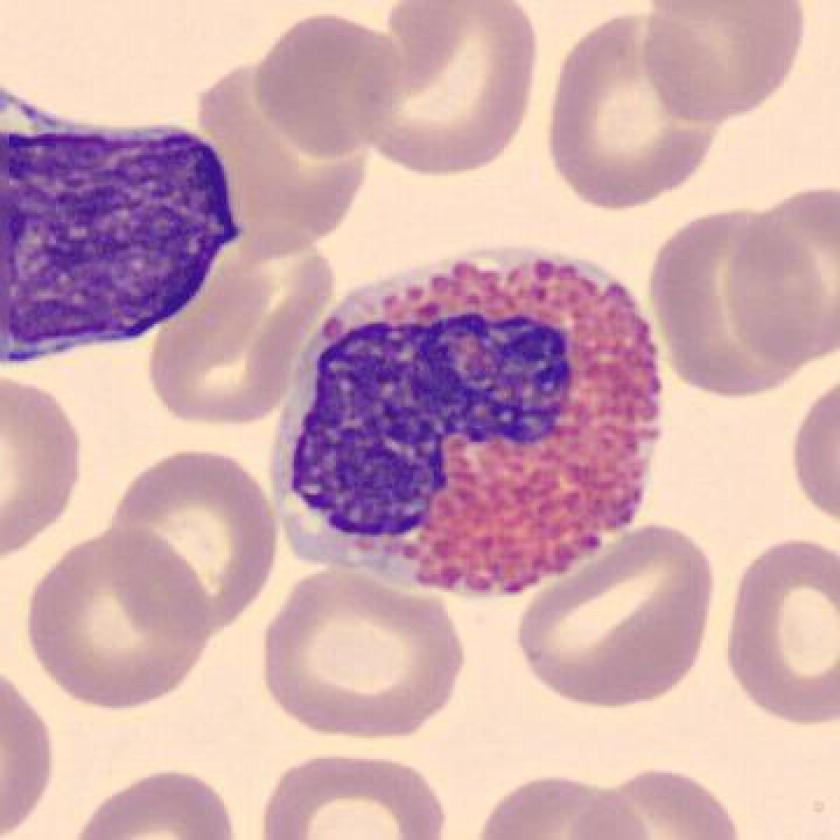eosinophil: (255, 232, 680, 619)
